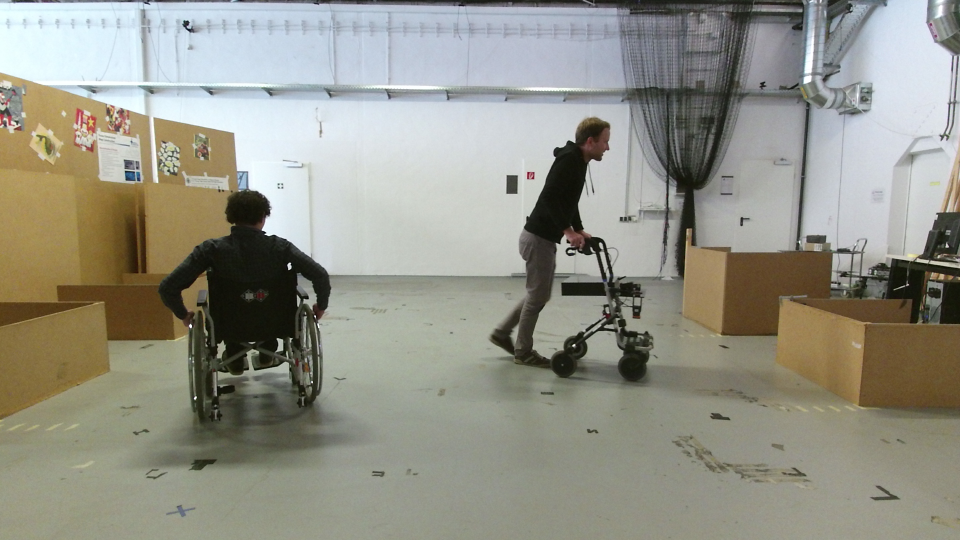wheelchair: (153, 178, 337, 435)
